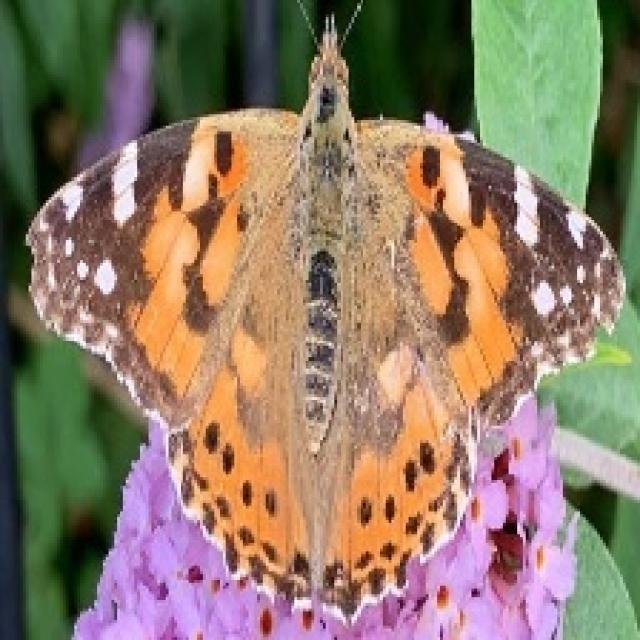butterfly: (23, 0, 626, 629)
